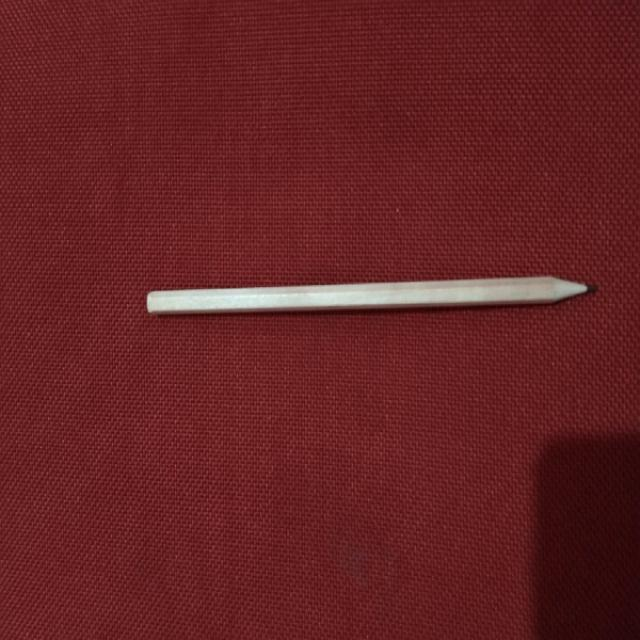pencil: (148, 278, 595, 313)
